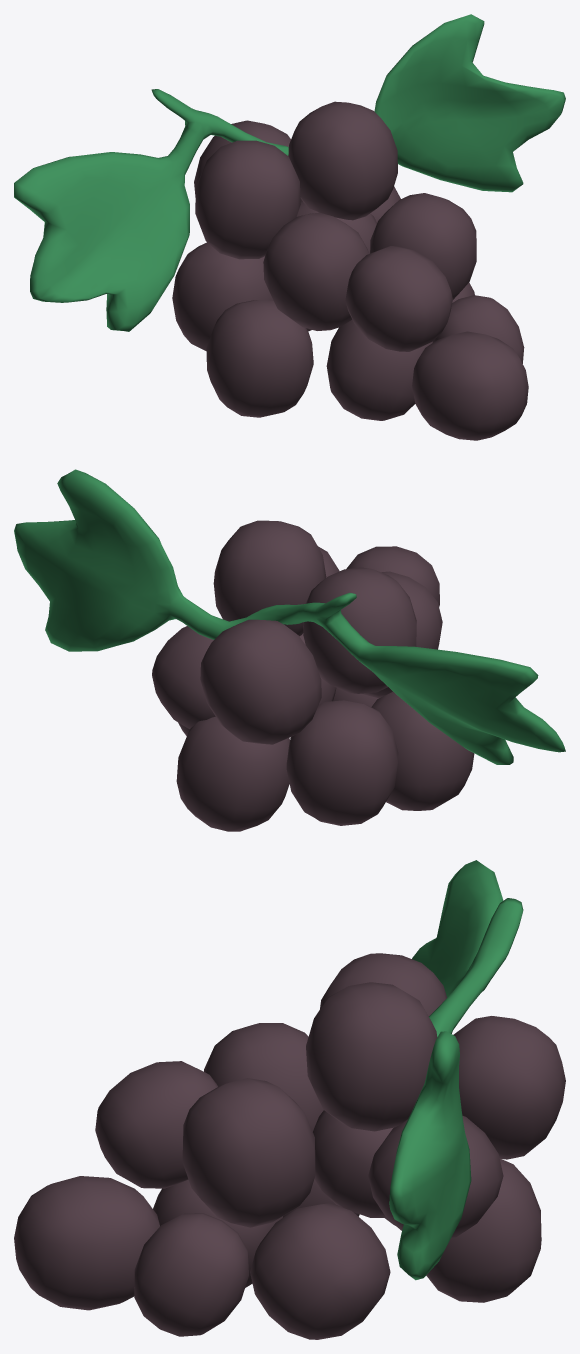
File: Grape_06.dae
3 views of the same model, one above another, from view 1: azimuth 30°, elevation 25°; view 2: azimuth 150°, elevation 25°; view 3: azimuth 270°, elevation 25° (orthographic). The views are drawn at different scales.
Visible parts, largest first — view 1: Grape_06_LOD0; view 2: Grape_06_LOD0; view 3: Grape_06_LOD0.
Part boxes in pixels (box(x1,y1,x2,y2)): Grape_06_LOD0: box(14, 14, 565, 440); Grape_06_LOD0: box(14, 469, 565, 831); Grape_06_LOD0: box(14, 860, 565, 1339).
Size of what is drawn, in the model's own units: 7.61 by 5.55 by 4.03.
